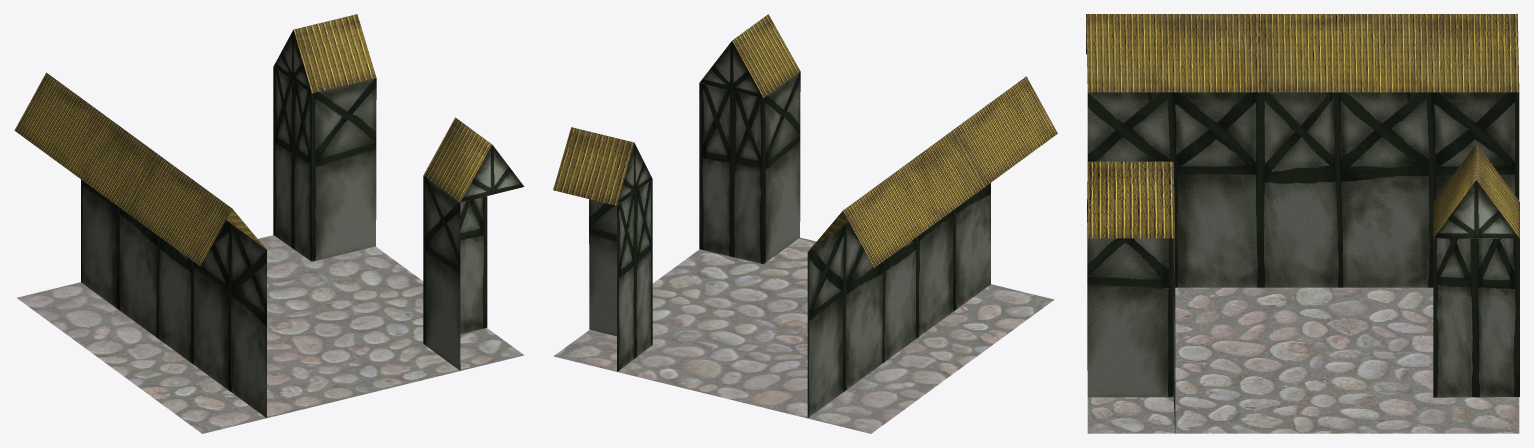
File: 3-5_T_Edges_v2.fbx
3 renders of one model, left to right at view 1: azimuth 30°, elevation 25°; view 2: azimuth 150°, elevation 25°; view 3: azimuth 270°, elevation 25°, orthographic. The views are drawn at different scales.
Visible parts, largest first — view 1: T_Edge_V2; view 2: T_Edge_V2; view 3: T_Edge_V2.
Part boxes in pixels (x1,y1,x2,y2): T_Edge_V2: (14,14,524,433); T_Edge_V2: (553,14,1057,433); T_Edge_V2: (1086,14,1519,433).
Bounding box in the file's own units: 101 × 64.88 × 100.
Materials: 2 (2 with a texture image).
